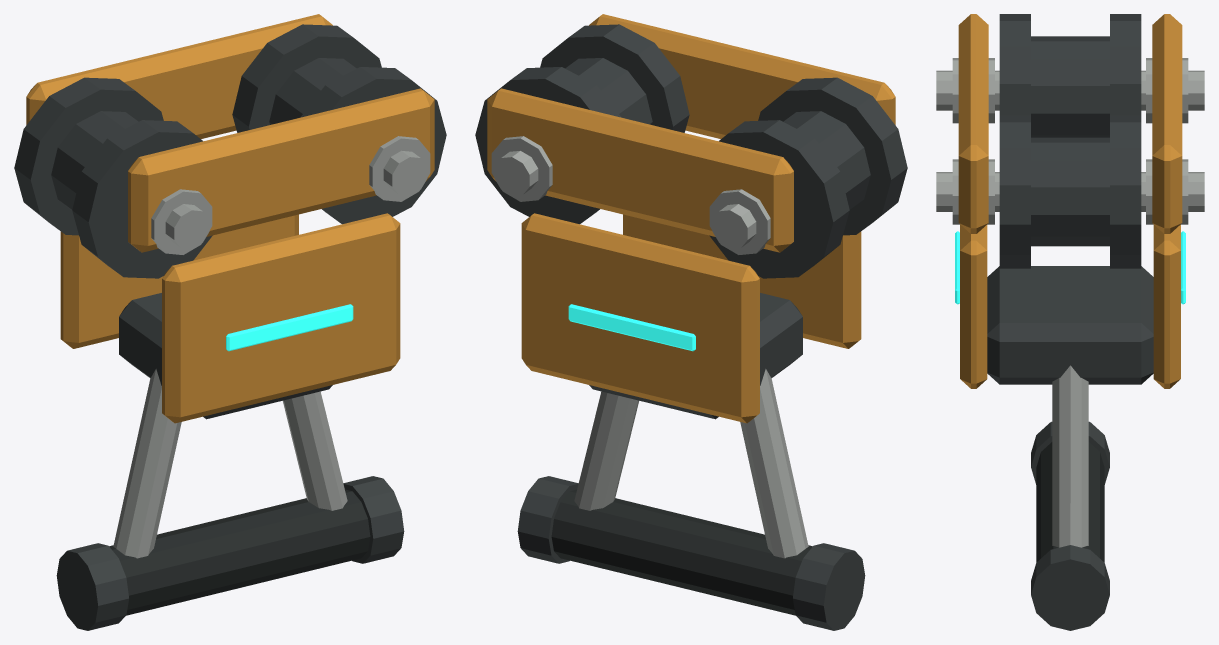
Rendered from w7b-ochre-cable-trolley.glb.
3 renders of one model, left to right at view 1: azimuth 30°, elevation 25°; view 2: azimuth 150°, elevation 25°; view 3: azimuth 270°, elevation 25°, orthographic. The views are drawn at different scales.
Visible parts, largest first — view 1: W08 ochre cable trolley; view 2: W08 ochre cable trolley; view 3: W08 ochre cable trolley.
Part boxes in pixels (x1,y1,x2,y2): W08 ochre cable trolley: (14,14,446,630); W08 ochre cable trolley: (475,14,907,630); W08 ochre cable trolley: (936,14,1204,630).
Bounding box in the file's own units: 0.578 × 0.791 × 0.394.
